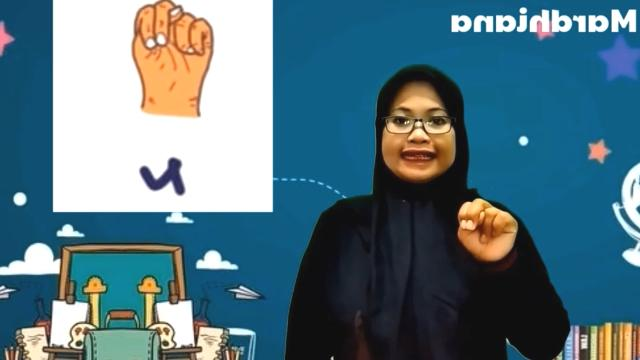N: (456, 198, 520, 260)
